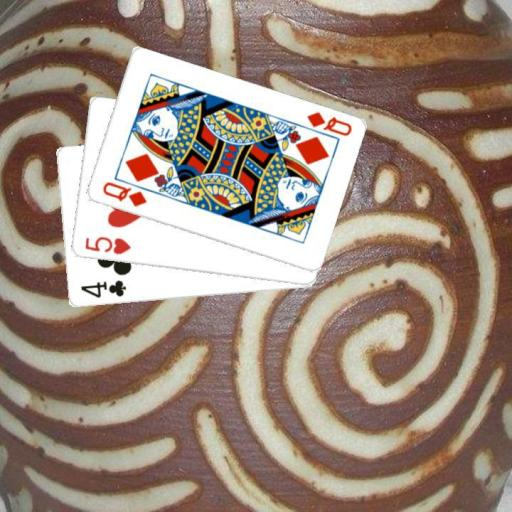4C: (77, 277, 127, 300)
5H: (81, 234, 132, 257)
QD: (99, 179, 148, 209), (303, 109, 353, 138)
